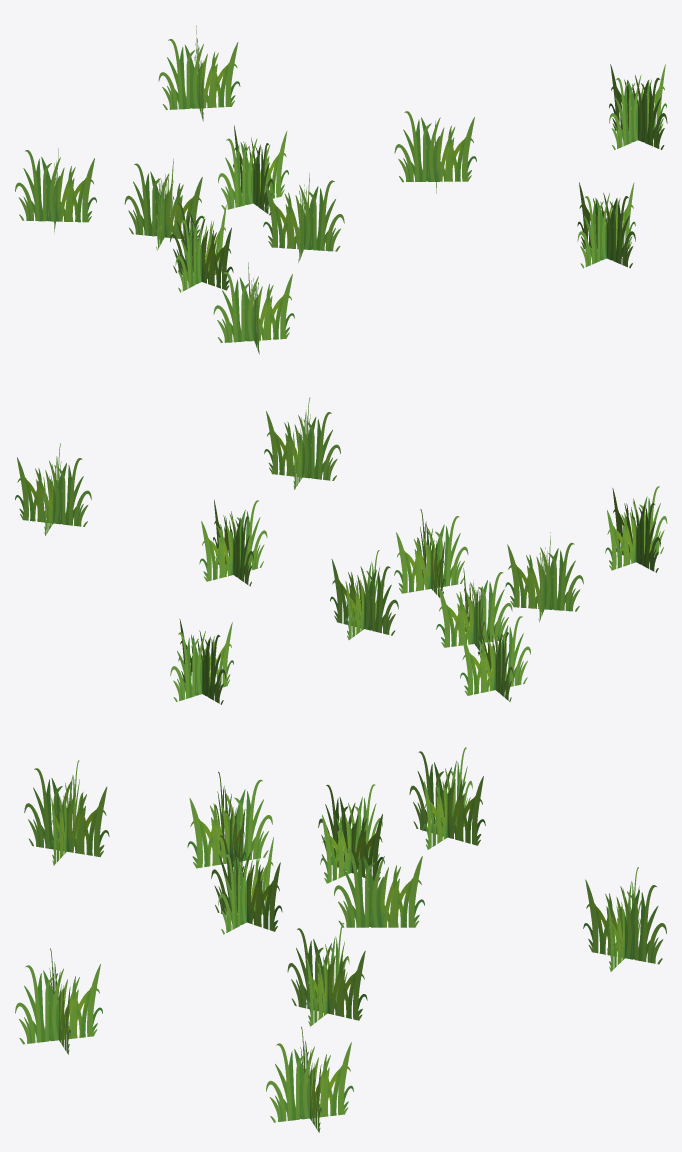
The model's file is grass_2.obj.
3 views of the same model, one above another, from view 1: azimuth 30°, elevation 25°; view 2: azimuth 150°, elevation 25°; view 3: azimuth 270°, elevation 25° (orthographic). The views are drawn at different scales.
Parts seen in each view (by area): view 1: grass_2_Plane.002; view 2: grass_2_Plane.002; view 3: grass_2_Plane.002.
Boxes of the visible parts, bbox=[...] form: grass_2_Plane.002: bbox=[15, 25, 667, 354]; grass_2_Plane.002: bbox=[15, 397, 667, 704]; grass_2_Plane.002: bbox=[15, 747, 666, 1132].
Bounding box in the file's own units: 9.63 × 1.2 × 8.41.
1 material, 1 textured.
